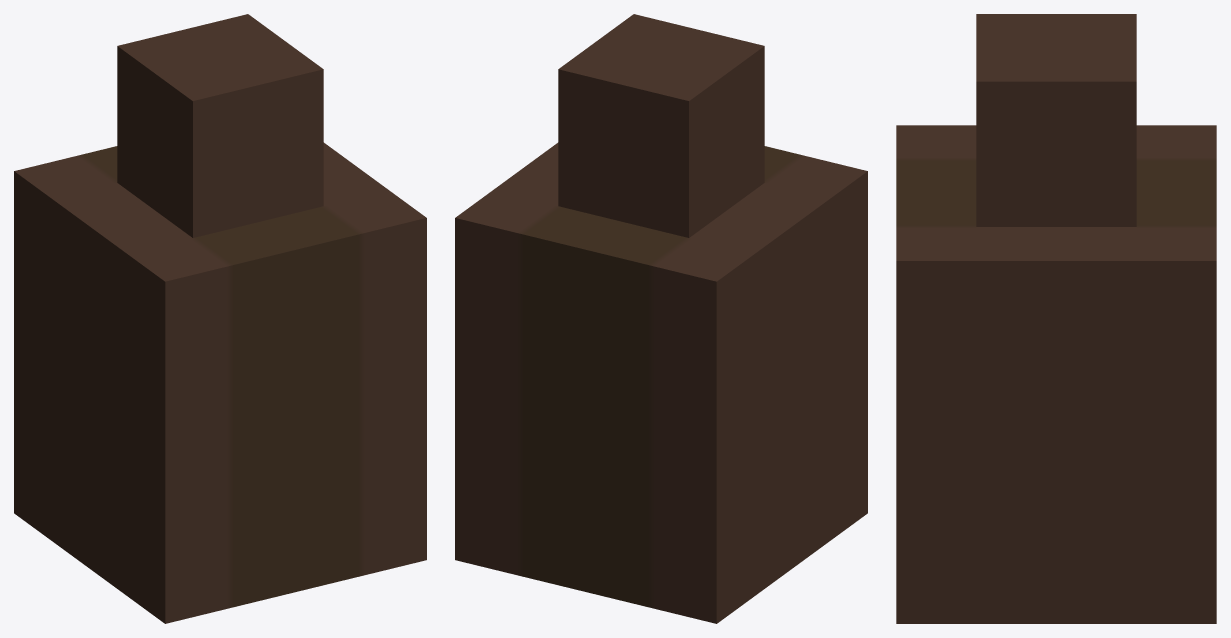
Rendered from Hip076.fbx.
The picture shows the model from 3 angles, left to right: view 1: azimuth 30°, elevation 25°; view 2: azimuth 150°, elevation 25°; view 3: azimuth 270°, elevation 25°; orthographic projection. The views are drawn at different scales.
Visible parts, largest first — view 1: Hip076; view 2: Hip076; view 3: Hip076.
Boxes of the visible parts, x1,y1,x2,y2 form: Hip076: [14, 14, 426, 623]; Hip076: [455, 14, 867, 623]; Hip076: [896, 14, 1216, 623].
Size of the model in its own units: 4 by 7 by 4.
